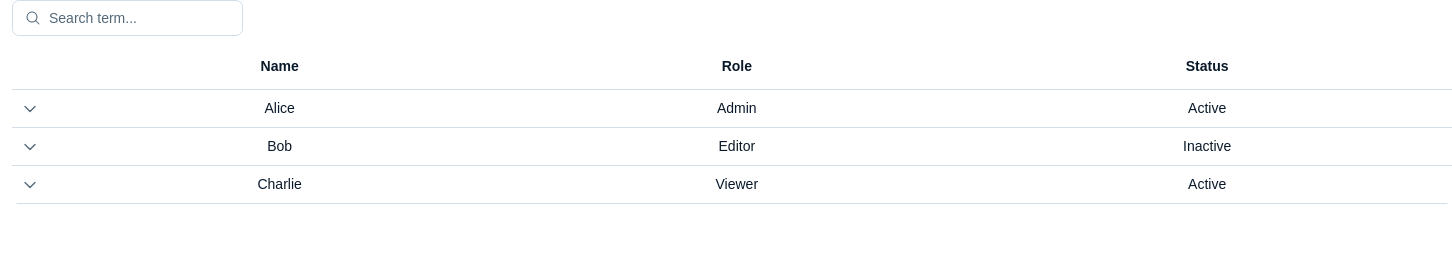
Test: Table › uses getRowKey for expand-row state tracking
The width and height of the screenshot is (1452, 270).
// Open the second row's expand
Step 1. Click the button named "expand row" in the row of "Bob" → [30, 146], box [12,128,48,164]
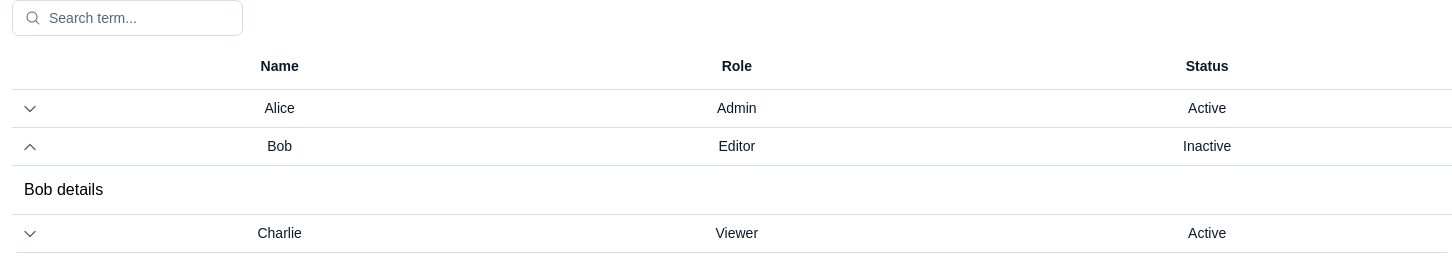
Result: the text "Bob details" is shown at [24,181,103,198]
